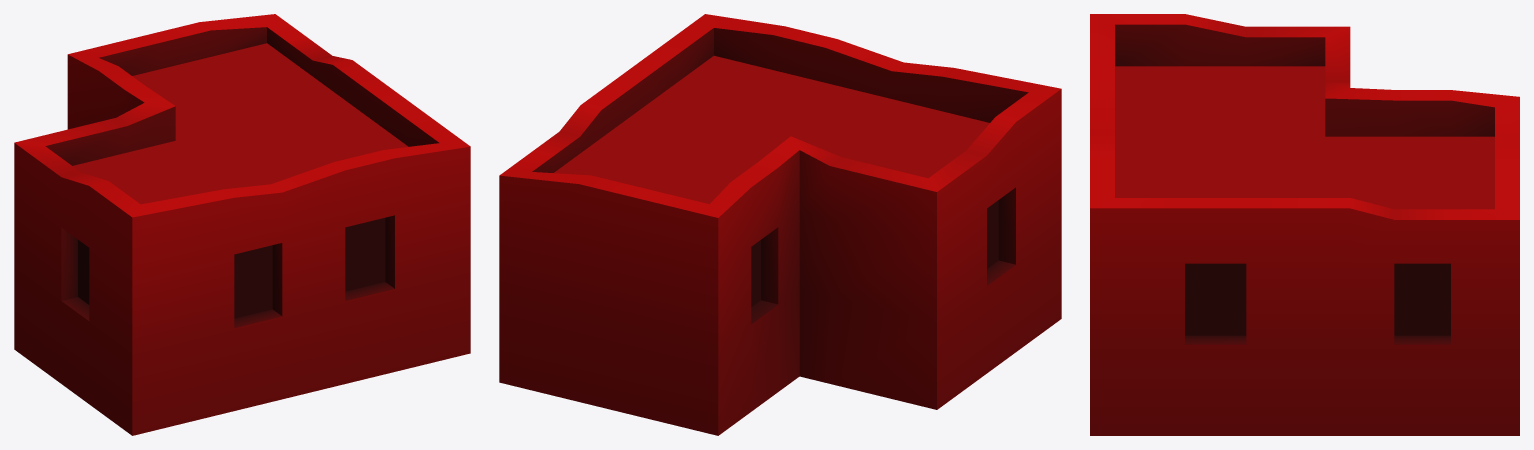
Rendered from buildings-historical-desertbuildingold_v2.fbx.
The picture shows the model from 3 angles, left to right: view 1: azimuth 30°, elevation 25°; view 2: azimuth 150°, elevation 25°; view 3: azimuth 270°, elevation 25°; orthographic projection. The views are drawn at different scales.
Visible parts, largest first — view 1: DesertBuildingOld_v2; view 2: DesertBuildingOld_v2; view 3: DesertBuildingOld_v2.
Part boxes in pixels (x1,y1,x2,y2): DesertBuildingOld_v2: (14, 14, 470, 435); DesertBuildingOld_v2: (499, 14, 1061, 435); DesertBuildingOld_v2: (1090, 14, 1519, 435).
Bounding box in the file's own units: 10.74 × 6.62 × 10.74.
